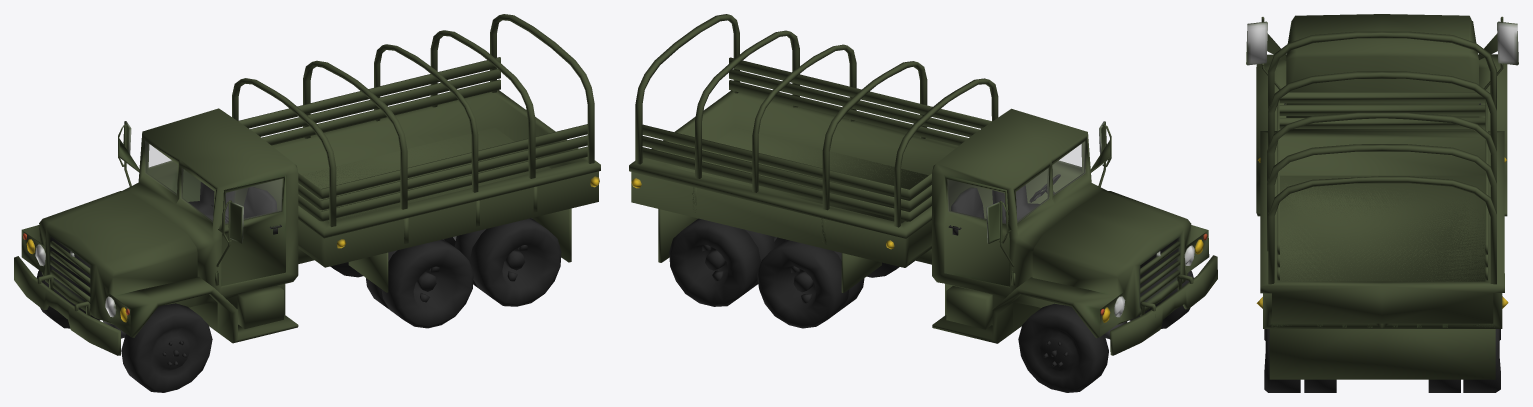
The model's file is Truck_re.fbx.
The picture shows the model from 3 angles, left to right: view 1: azimuth 30°, elevation 25°; view 2: azimuth 150°, elevation 25°; view 3: azimuth 270°, elevation 25°; orthographic projection. The views are drawn at different scales.
Visible parts, largest first — view 1: Truck, Truck_Stick2, Truck_Wheel_Back_Left, Truck_Stick1, Truck_Wheel_Front_Right, Truck_Door_Left, Truck_Door_Right, Truck_Mirror_Left, Truck_Mirror_Right; view 2: Truck, Truck_Stick2, Truck_Wheel_Back_Right, Truck_Stick1, Truck_Wheel_Front_Left, Truck_Door_Right, Truck_Door_Left, Truck_Mirror_Right, Truck_Mirror_Left; view 3: Truck, Truck_Stick1, Truck_Stick2, Truck_Wheel_Back_Right, Truck_Wheel_Back_Left, Truck_Mirror_Left, Truck_Mirror_Right.
Part boxes in pixels (x1=…): Truck: x1=14, y1=90, x2=600, y2=355; Truck_Stick2: x1=238, y1=57, x2=587, y2=221; Truck_Wheel_Back_Left: x1=366, y1=218, x2=561, y2=328; Truck_Stick1: x1=232, y1=14, x2=594, y2=226; Truck_Wheel_Front_Right: x1=121, y1=303, x2=212, y2=392; Truck_Door_Left: x1=221, y1=175, x2=285, y2=286; Truck_Door_Right: x1=146, y1=142, x2=200, y2=201; Truck_Mirror_Left: x1=216, y1=200, x2=243, y2=267; Truck_Mirror_Right: x1=118, y1=121, x2=139, y2=186; Truck: x1=629, y1=90, x2=1217, y2=355; Truck_Stick2: x1=642, y1=57, x2=991, y2=221; Truck_Wheel_Back_Right: x1=669, y1=218, x2=864, y2=328; Truck_Stick1: x1=635, y1=14, x2=998, y2=227; Truck_Wheel_Front_Left: x1=1018, y1=303, x2=1108, y2=392; Truck_Door_Right: x1=944, y1=175, x2=1009, y2=286; Truck_Door_Left: x1=1025, y1=143, x2=1083, y2=203; Truck_Mirror_Right: x1=986, y1=200, x2=1013, y2=267; Truck_Mirror_Left: x1=1090, y1=121, x2=1111, y2=186; Truck: x1=1256, y1=14, x2=1508, y2=379; Truck_Stick1: x1=1267, y1=31, x2=1496, y2=284; Truck_Stick2: x1=1277, y1=92, x2=1487, y2=280; Truck_Wheel_Back_Right: x1=1428, y1=329, x2=1500, y2=392; Truck_Wheel_Back_Left: x1=1264, y1=329, x2=1336, y2=392; Truck_Mirror_Left: x1=1246, y1=17, x2=1286, y2=89; Truck_Mirror_Right: x1=1478, y1=16, x2=1518, y2=89.
Bounding box in the file's own units: 886 × 373 × 371.
